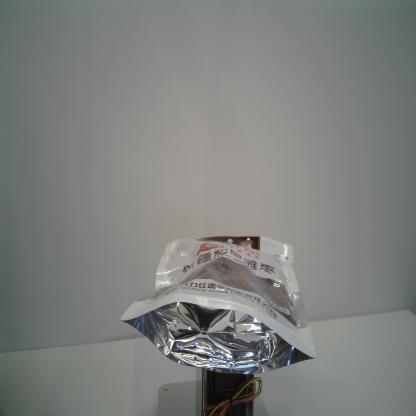Dried Food: (119, 230, 318, 377)
